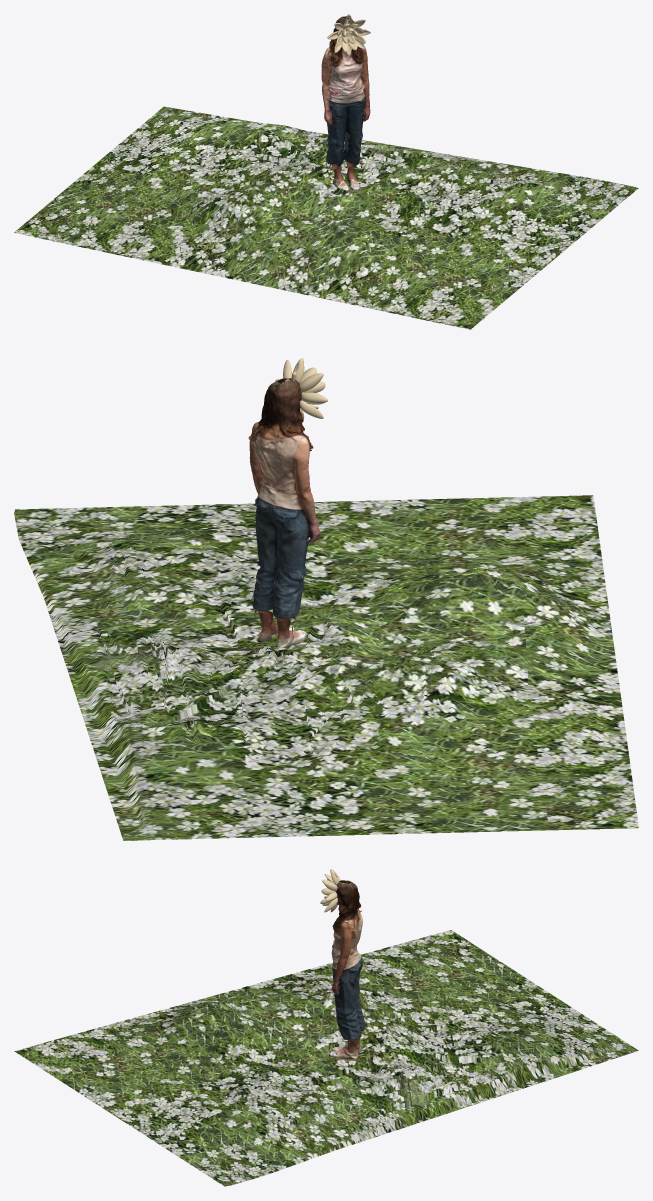
The model's file is blender model_smaller.glb.
The picture shows the model from 3 angles, top to bottom: view 1: azimuth 30°, elevation 25°; view 2: azimuth 150°, elevation 25°; view 3: azimuth 270°, elevation 25°; orthographic projection. The views are drawn at different scales.
Visible parts, largest first — view 1: Landscape.001, mesh_medpoly.001, 18366_Hinduism-Lotus_Flower_V1; view 2: Landscape.001, mesh_medpoly.001, 18366_Hinduism-Lotus_Flower_V1; view 3: Landscape.001, mesh_medpoly.001, 18366_Hinduism-Lotus_Flower_V1.
Part boxes in pixels (x1,y1,x2,y2): Landscape.001: (14, 106, 638, 329); mesh_medpoly.001: (321, 16, 370, 191); 18366_Hinduism-Lotus_Flower_V1: (327, 14, 370, 55); Landscape.001: (14, 495, 638, 840); mesh_medpoly.001: (248, 378, 320, 648); 18366_Hinduism-Lotus_Flower_V1: (275, 358, 327, 422); Landscape.001: (14, 930, 638, 1186); mesh_medpoly.001: (329, 880, 365, 1061); 18366_Hinduism-Lotus_Flower_V1: (320, 869, 340, 912).
Size of the model in its own units: 10.7 by 3.85 by 11.
30 materials, 29 textured.
